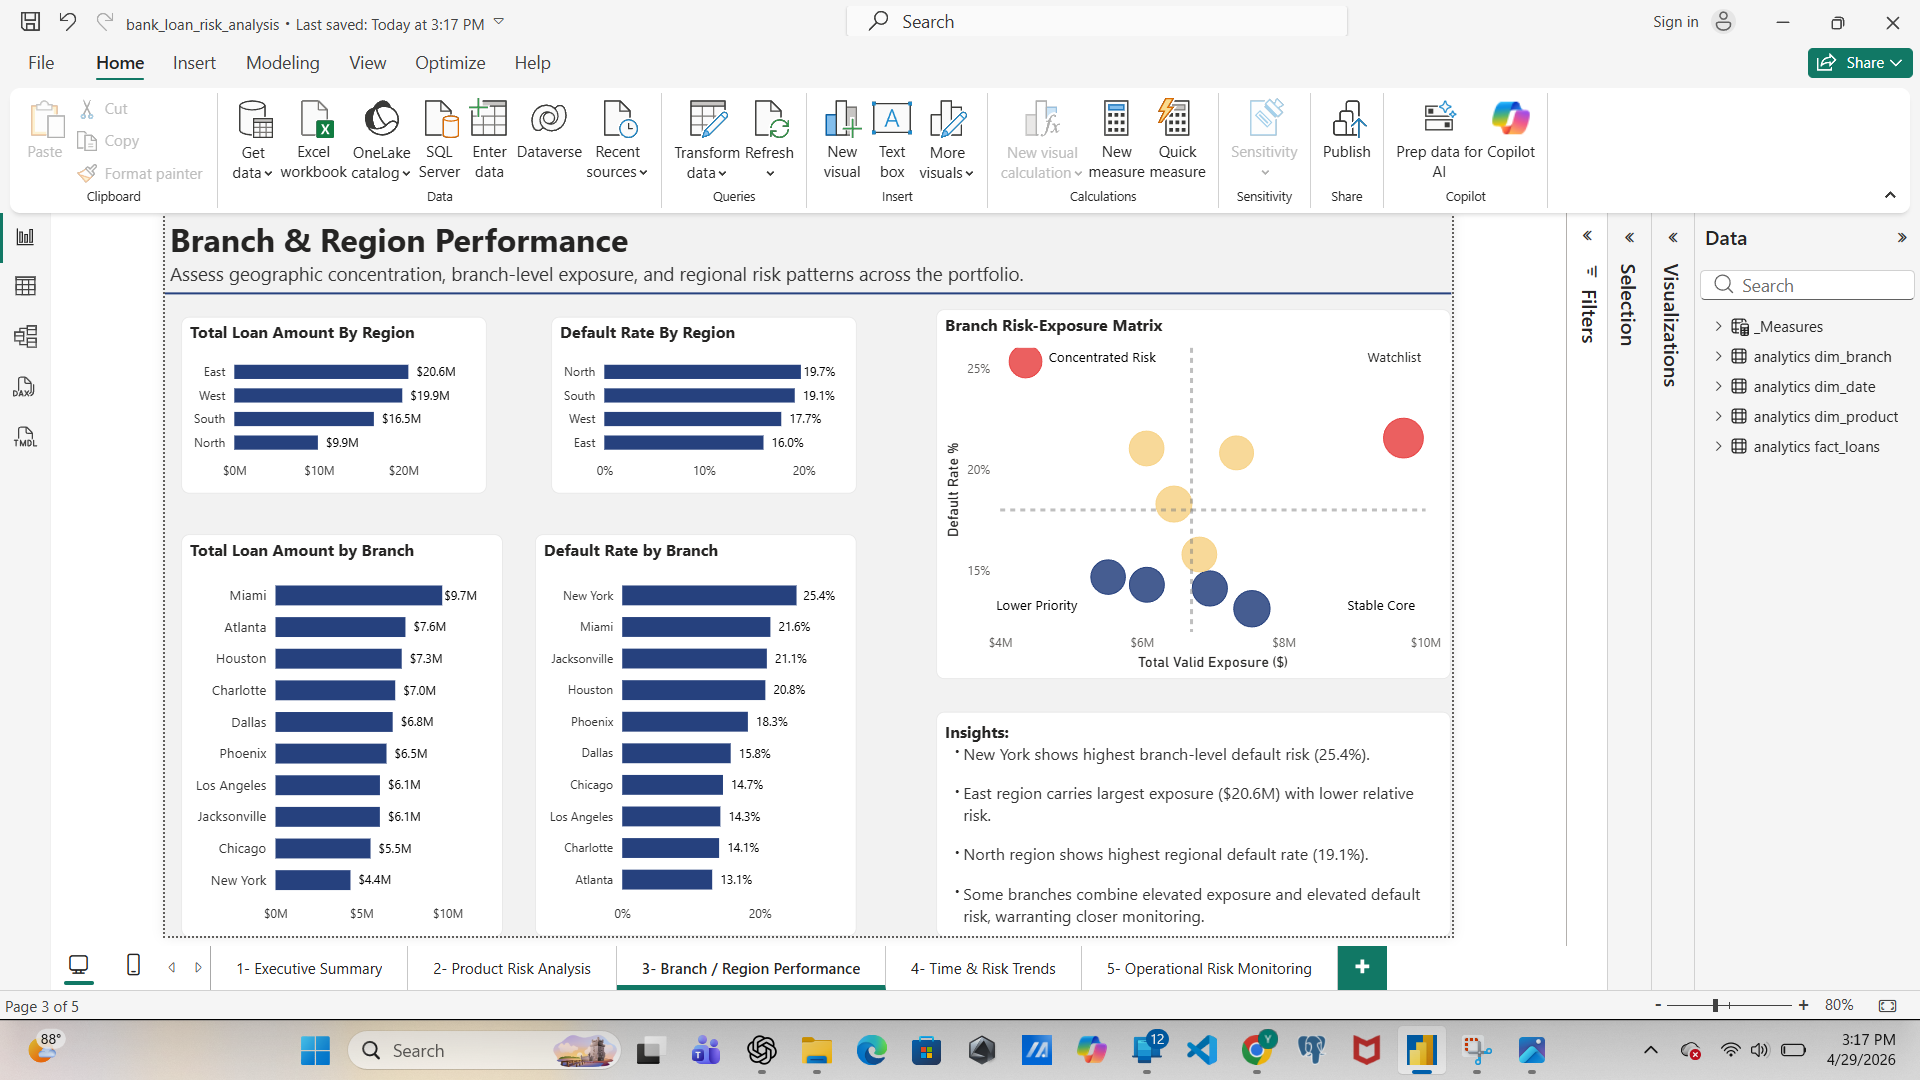

Layout of this report page (visuals, bound fields, positions):
{"tool":"powerbi","page":{"name":"3- Branch / Region Performance","canvas":[1280,720],"ordinal":2},"visuals":[{"type":"shape","box":[0,0,1280,160],"z":0},{"type":"shape","box":[0,0,1280,80],"z":1000},{"type":"textbox","box":[0,0,1280,80],"z":2000},{"type":"clusteredBarChart","title":"Total Loan Amount By Region","fields":{"Category":["analytics dim_branch.region"],"Y":["_Measures.Total Valid Loan Amount"]},"box":[16,103,304,176],"z":3000},{"type":"clusteredBarChart","title":"Default Rate By Region","fields":{"Y":["_Measures.Default Rate %"],"Category":["analytics dim_branch.region"]},"box":[384,103,304,176],"z":4000},{"type":"clusteredBarChart","title":"Default Rate by Branch","fields":{"Category":["analytics dim_branch.branch_name"],"Y":["_Measures.Default Rate %"]},"box":[368,320,320,400],"z":5000},{"type":"clusteredBarChart","title":"Total Loan Amount by Branch","fields":{"Y":["_Measures.Total Valid Loan Amount"],"Category":["analytics dim_branch.branch_name"]},"box":[16.2,319.4,319.7,400.6],"z":6000},{"type":"scatterChart","title":"Branch Risk-Exposure Matrix","fields":{"X":["_Measures.Total Valid Loan Amount"],"Y":["_Measures.Default Rate %"],"Size":["_Measures.Total Loans"],"Series":["analytics dim_branch.branch_name"]},"box":[768,96,512,368],"z":7000},{"type":"textbox","box":[768,496,512,224],"z":8000},{"type":"textbox","box":[1191.7,129,89,31.1],"z":9000},{"type":"textbox","box":[1171.8,375.7,97,34.8],"z":10000},{"type":"textbox","box":[874.5,129.4,126.9,31.1],"z":11000},{"type":"textbox","box":[822.3,375.7,104.5,34.8],"z":12000}]}

Visuals, with their boxes on the page's 1280x720 design canvas (x1, y1, x2, y2). These are canvas units, not pixel positions in the 1920x1080 screenshot, which may show the page scaled, cropped or inside an application window:
shape: [0,0,1280,160]
shape: [0,0,1280,80]
textbox: [0,0,1280,80]
"Total Loan Amount By Region" clusteredBarChart: [16,103,320,279]
"Default Rate By Region" clusteredBarChart: [384,103,688,279]
"Default Rate by Branch" clusteredBarChart: [368,320,688,720]
"Total Loan Amount by Branch" clusteredBarChart: [16,319,336,720]
"Branch Risk-Exposure Matrix" scatterChart: [768,96,1280,464]
textbox: [768,496,1280,720]
textbox: [1192,129,1281,160]
textbox: [1172,376,1269,410]
textbox: [874,129,1001,160]
textbox: [822,376,927,410]
